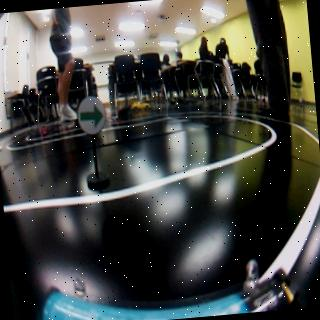right: (78, 96, 110, 140)
